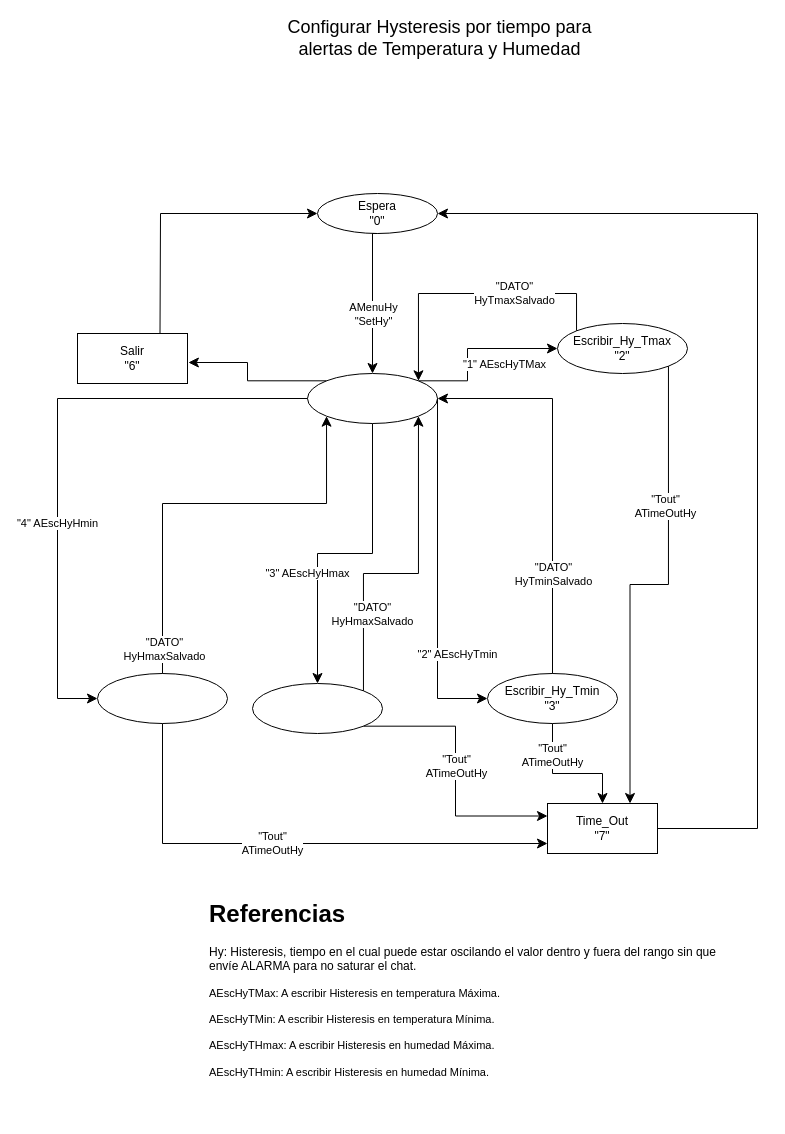
This 785x1134 diagram has some shape labels left out. The centre of each missing label's shape, as x and y in pixels:
Escribir_Hy_Hmax "4": the point at 317,708
Escribir_Hy_Hmin "5": the point at 162,698
Menu_Hy "1": the point at 372,398
